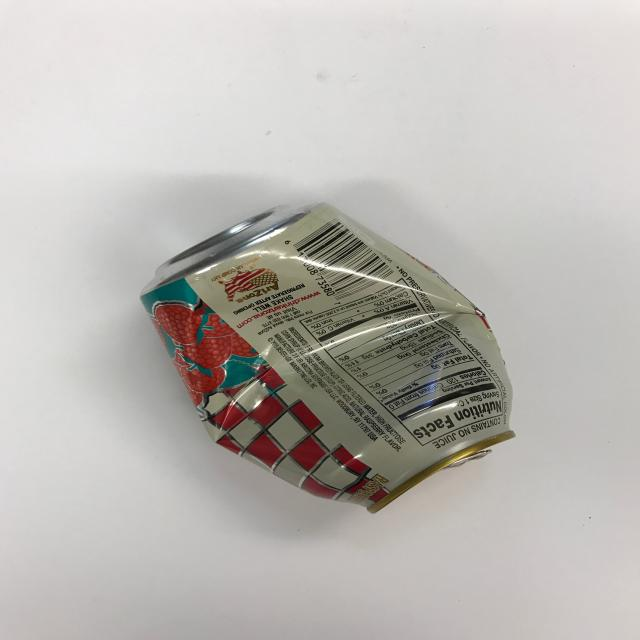metal: (138, 200, 517, 514)
